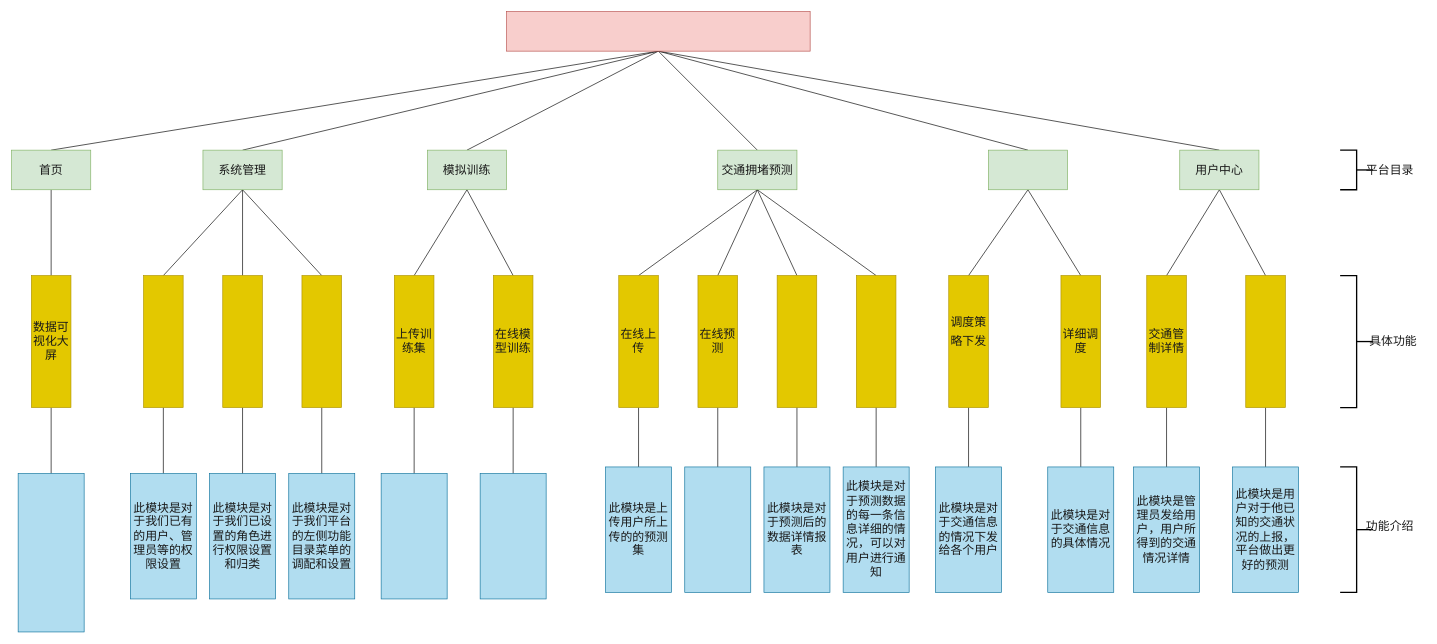
Some shapes in this 1437 by 644 pixel diagram are drawn without their labels. Here are the shapes that lost their labels. From the top down, the box of each, then its label:
(506, 11, 810, 51): AI多模型的交通情况预测系统平台功能介绍
(988, 149, 1068, 190): 交通调度
(143, 275, 183, 408): 用户管理
(222, 275, 262, 408): 角色管理
(301, 275, 342, 408): 菜单管理
(776, 275, 817, 408): 数据报表
(856, 275, 896, 408): 详细报表
(1245, 275, 1285, 408): 拥堵上报
(380, 473, 447, 599): 此模块是上传用户自己的数据来上传，是训练级，进行预测
(479, 473, 546, 599): 此模块是对于我们已有的数据进行模型训练，生成模型评估
(684, 466, 751, 592): 此模块对于已有的数据进行预测，并会得出预测评估
(17, 473, 84, 632): 此模块是来看出每日拥堵，预测总数和当前重度拥堵情况，和多种数据可视化，让用户直观的看出交通拥堵情况
